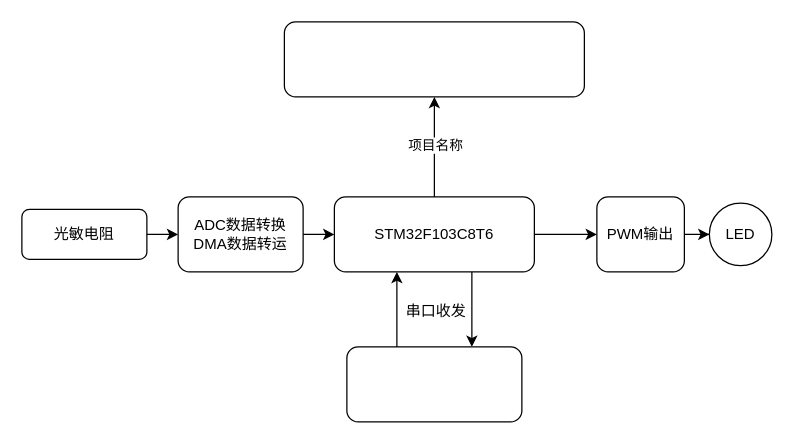
Image size: 794x444. Some labels were removed from this diagram. The shapes that lost their labels are listed below. From the top down, each one's centre as x and y in pixels, then its label:
point 433,59: 基于STM32F103C8T6的光控灯项目
point 434,384: PC端口控制与数据接收
